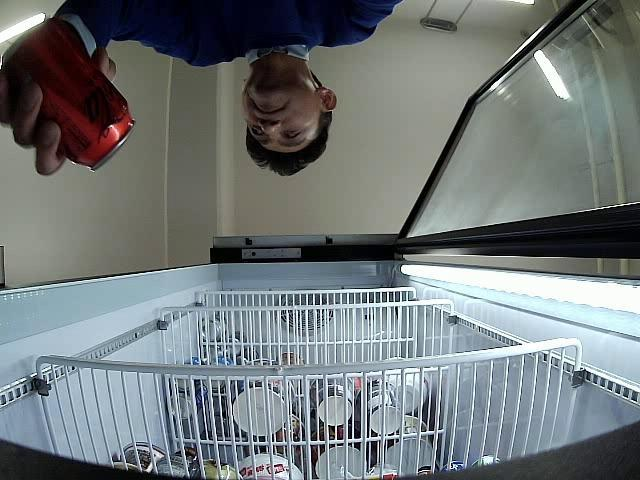11_cocaColaZero: (2, 18, 134, 172)
